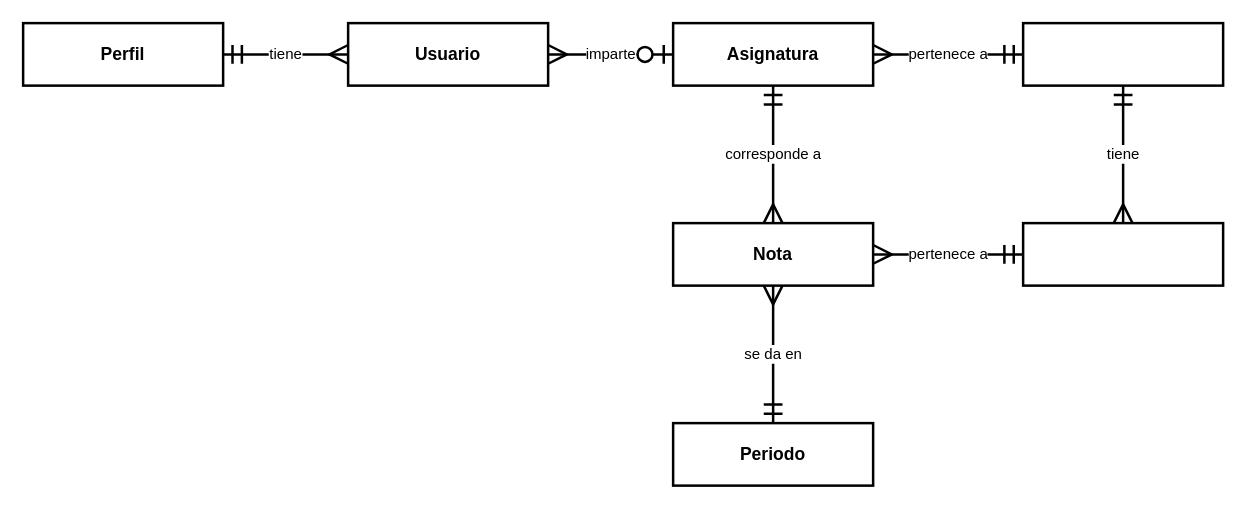
The diagram is 1245 pixels wide and 508 high, and some of its shapes have lost their labels. The shapes that lost their labels are listed below. From the top down, each one's centre as x and y in pixels, then its label:
the point at 1122,53: Grado
the point at 1122,253: Estudiante
